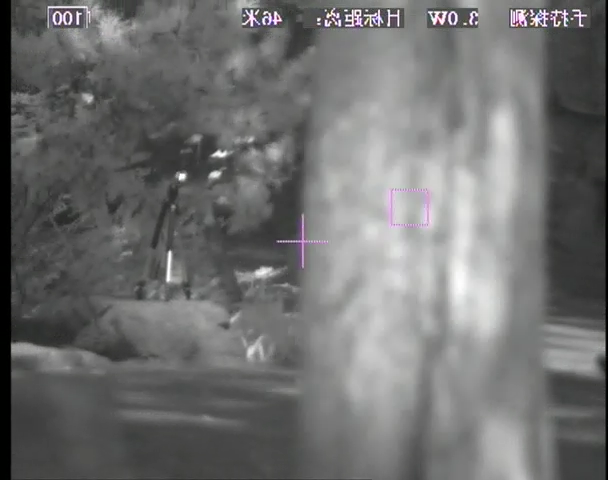my: (174, 170, 187, 183)
